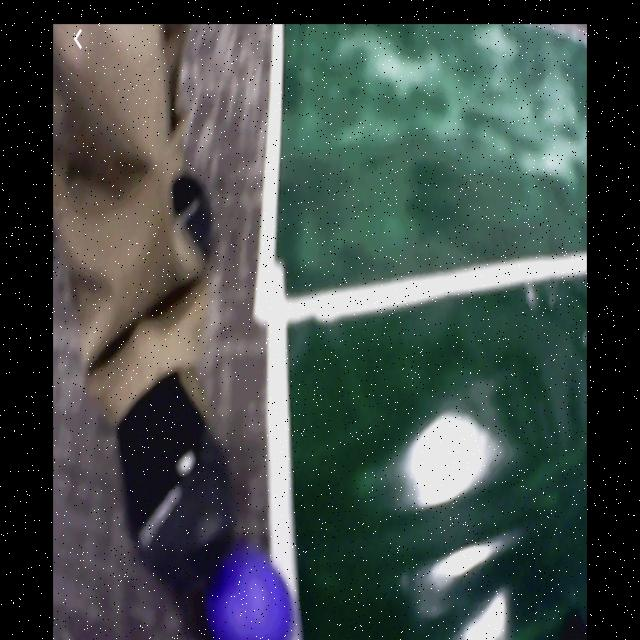ball: (209, 550, 293, 640)
